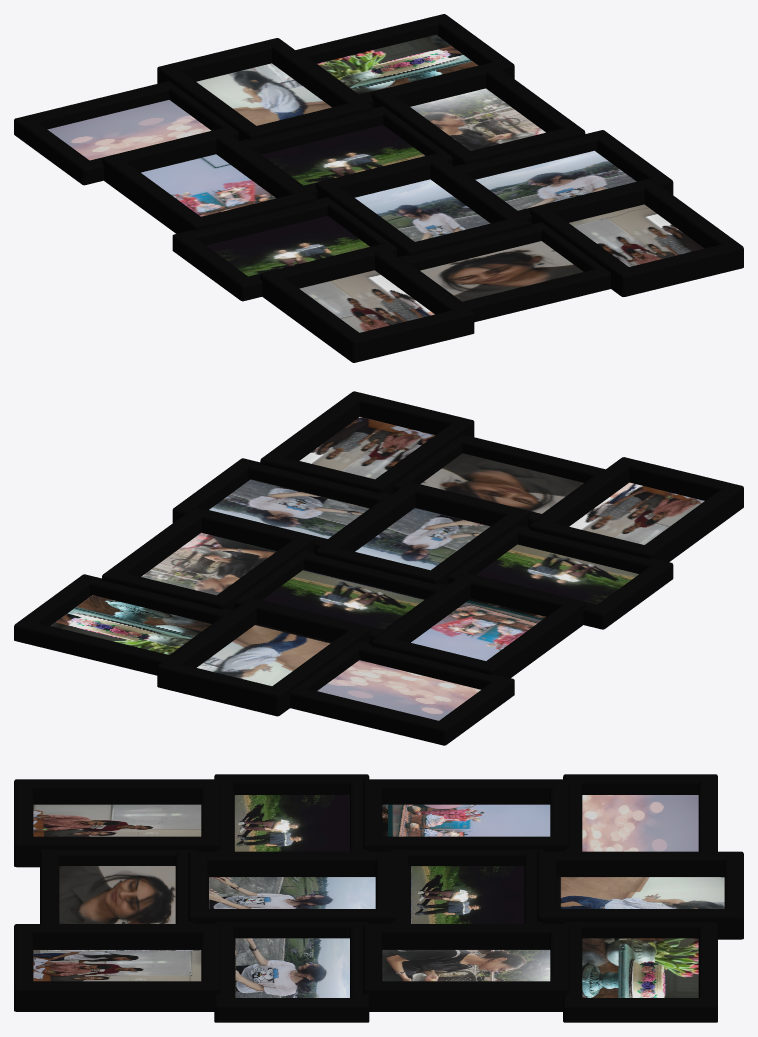
File: asset.gltf
The picture shows the model from 3 angles, top to bottom: view 1: azimuth 30°, elevation 25°; view 2: azimuth 150°, elevation 25°; view 3: azimuth 270°, elevation 25°; orthographic projection. The views are drawn at different scales.
Parts seen in each view (by area): view 1: frame_2, photos_3; view 2: frame_2, photos_3; view 3: frame_2, photos_3.
Boxes of the visible parts, bbox=[...] form: frame_2: bbox=[14, 14, 743, 362]; photos_3: bbox=[47, 34, 704, 332]; frame_2: bbox=[14, 391, 743, 745]; photos_3: bbox=[51, 417, 704, 720]; frame_2: bbox=[14, 774, 743, 1022]; photos_3: bbox=[33, 795, 724, 997].
Bounding box in the file's own units: 0.425 × 0.02 × 0.565.
Materials: 4 (1 with a texture image).
